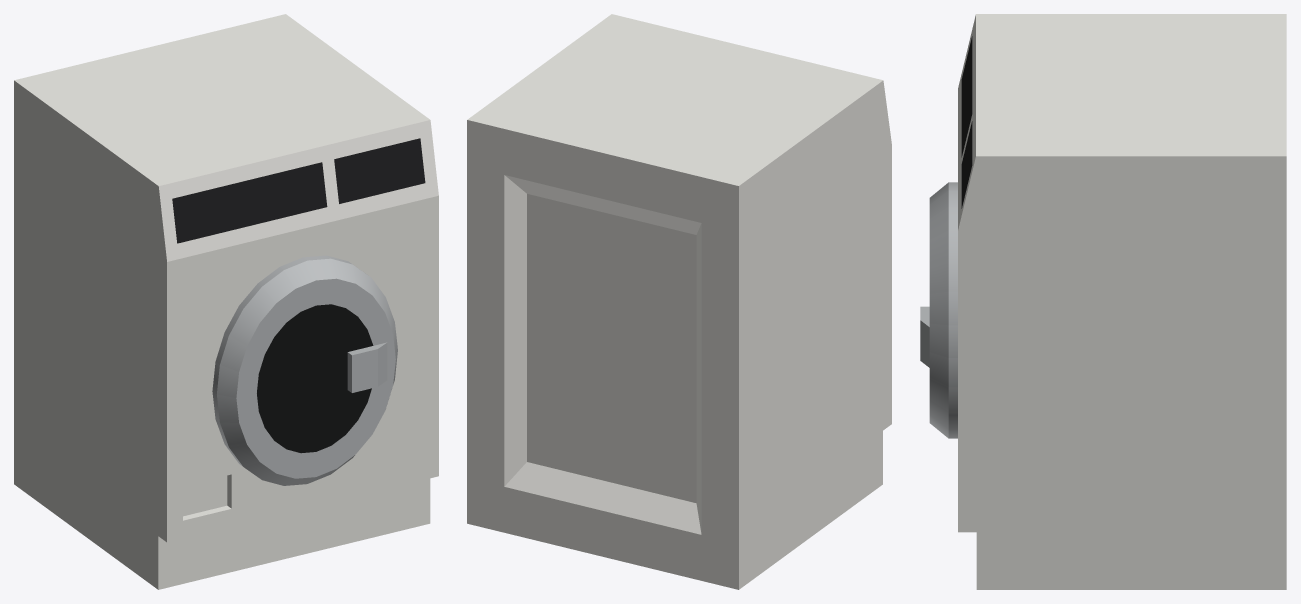
File: pk_washer_white.glb
3 renders of one model, left to right at view 1: azimuth 30°, elevation 25°; view 2: azimuth 150°, elevation 25°; view 3: azimuth 270°, elevation 25°, orthographic. The views are drawn at different scales.
Visible parts, largest first — view 1: pk_washer_white; view 2: pk_washer_white; view 3: pk_washer_white.
Part boxes in pixels (x1,y1,x2,y2): pk_washer_white: [14, 14, 438, 589]; pk_washer_white: [467, 14, 891, 589]; pk_washer_white: [920, 14, 1286, 589].
Size of the model in its own units: 0.69 by 0.98 by 0.75.
1 material, 1 textured.
